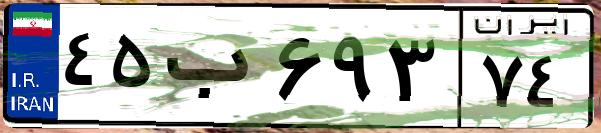3: (385, 28, 445, 110)
4: (57, 26, 110, 100), (525, 38, 570, 115)
5: (110, 28, 158, 98)
6: (270, 28, 330, 110)
7: (475, 38, 525, 113)
9: (330, 28, 385, 110)
ب: (158, 20, 270, 120)
